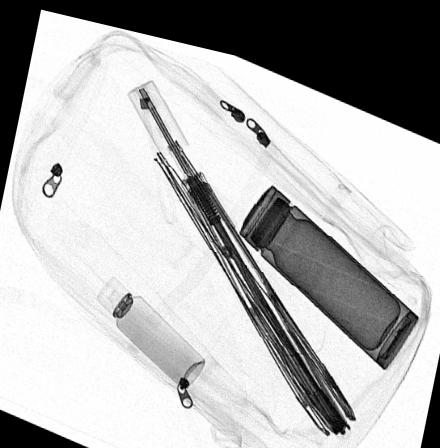Sprayer: (95, 268, 203, 381)
